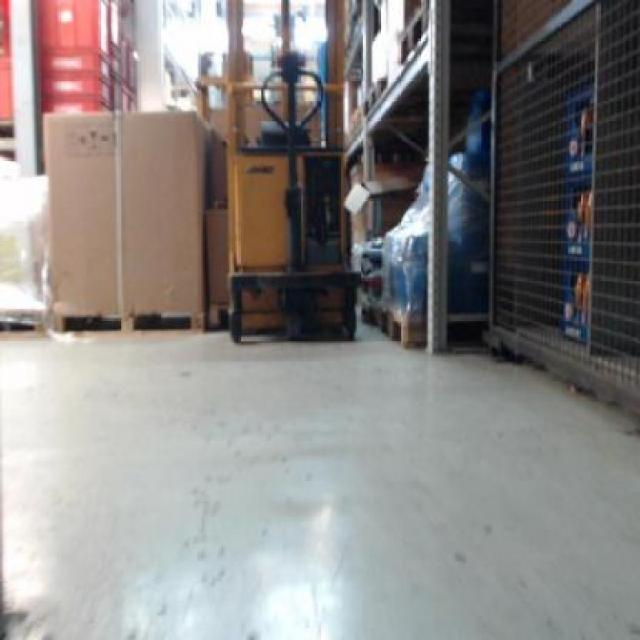pallet: (50, 300, 209, 344)
